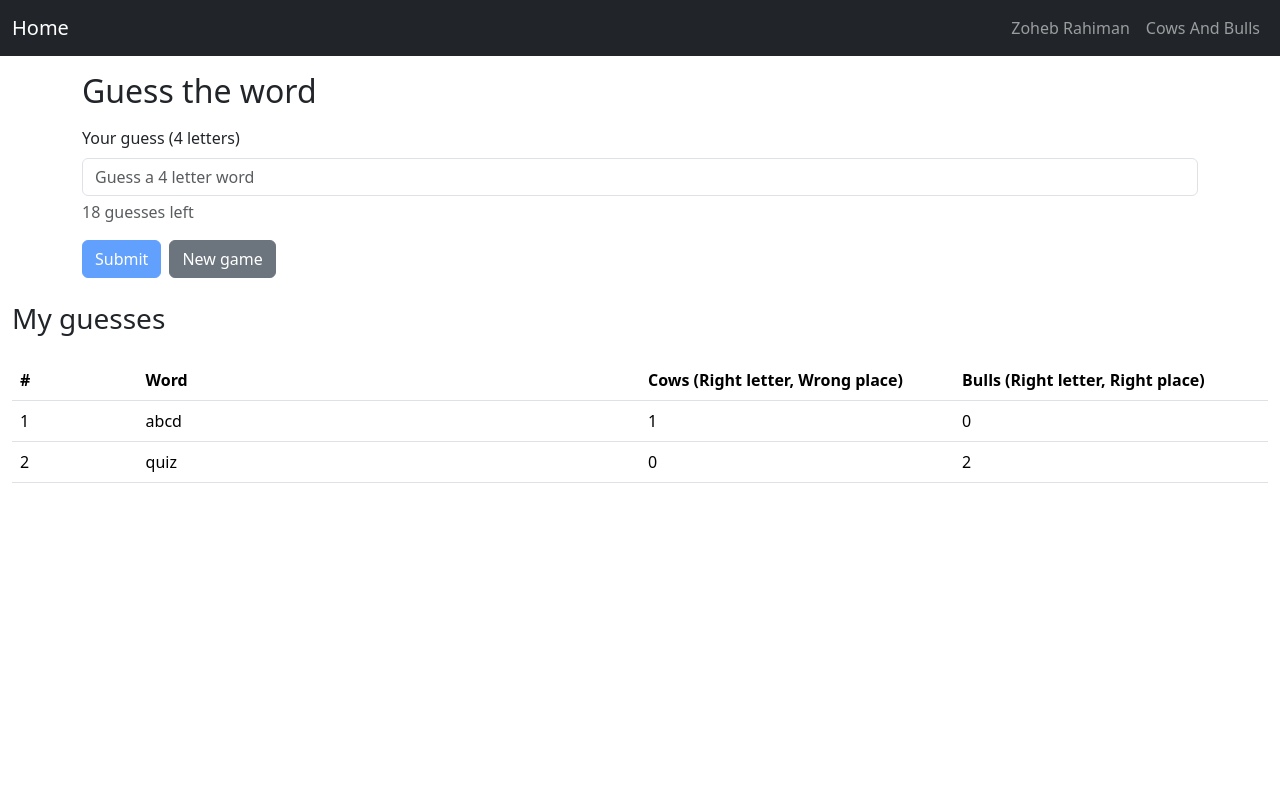
Test: submitting a guess › shows the server's reason for a 422 and keeps the guess to correct
Step 1. Type "gold" into the field labelled "Your guess (4 letters)" → (640, 177), box [82,158,1198,196]
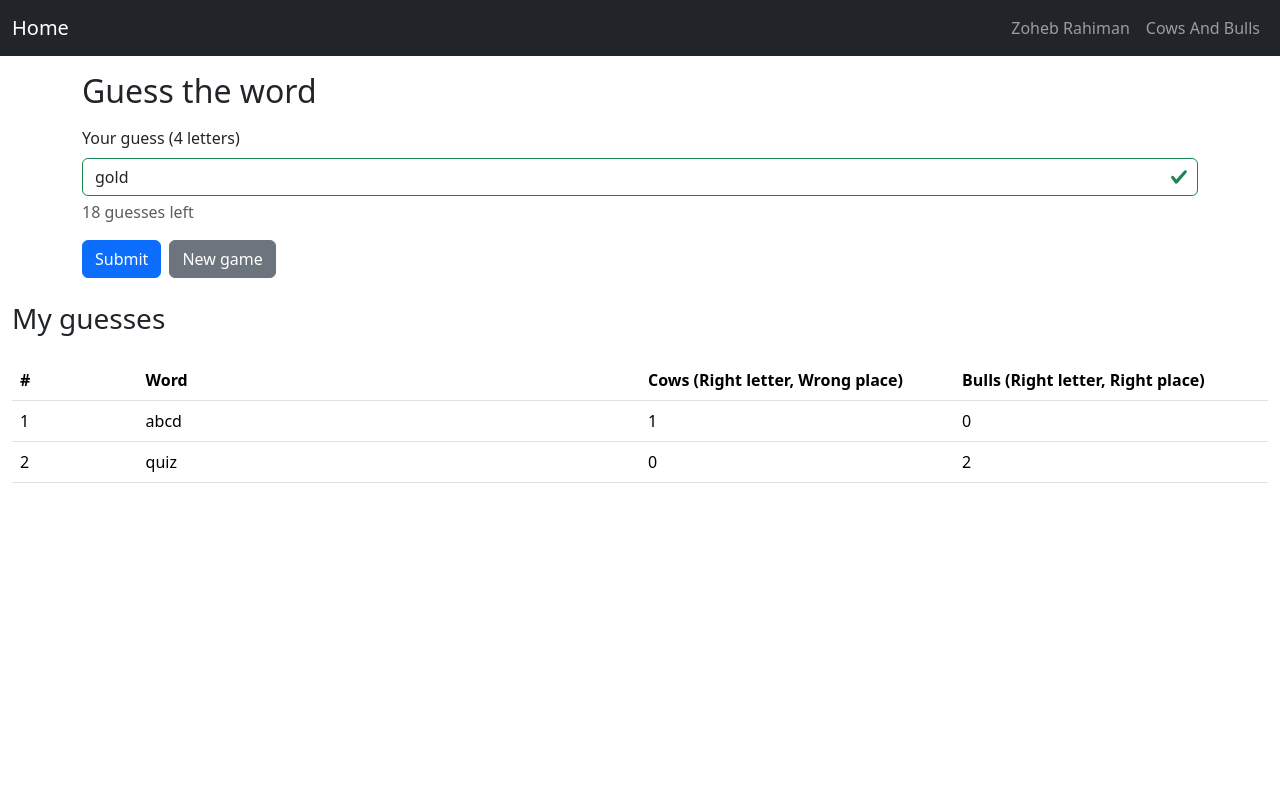
Step 2. Click the button "Submit" → (122, 259), box [82,240,161,278]
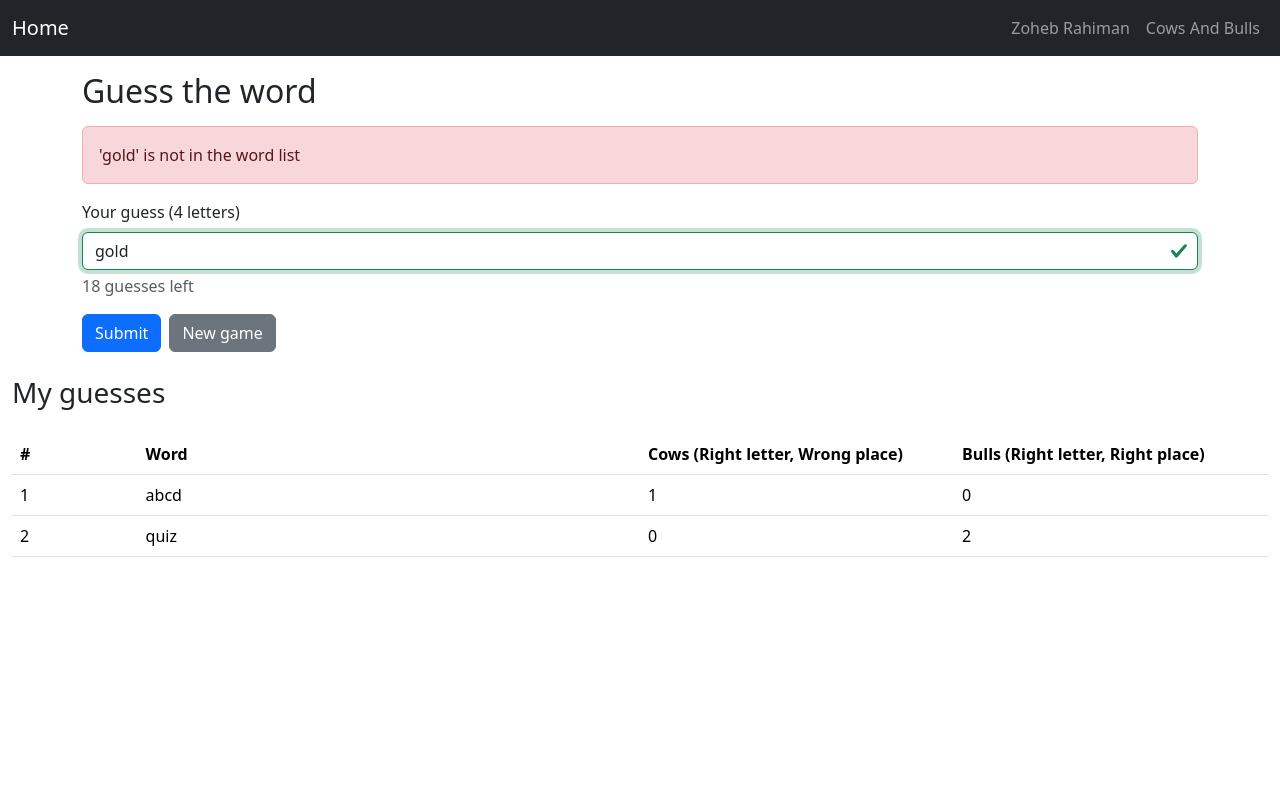
expect the button "Submit" is enabled: met, box [82,314,161,352]
expect the message reads "'gold' is not in the word list": met, box [99,144,300,166]
